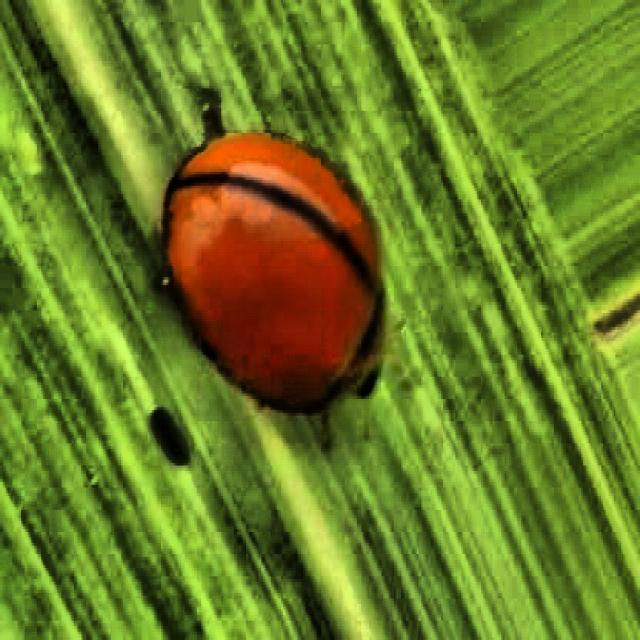Ladybug: (98, 57, 435, 480)
